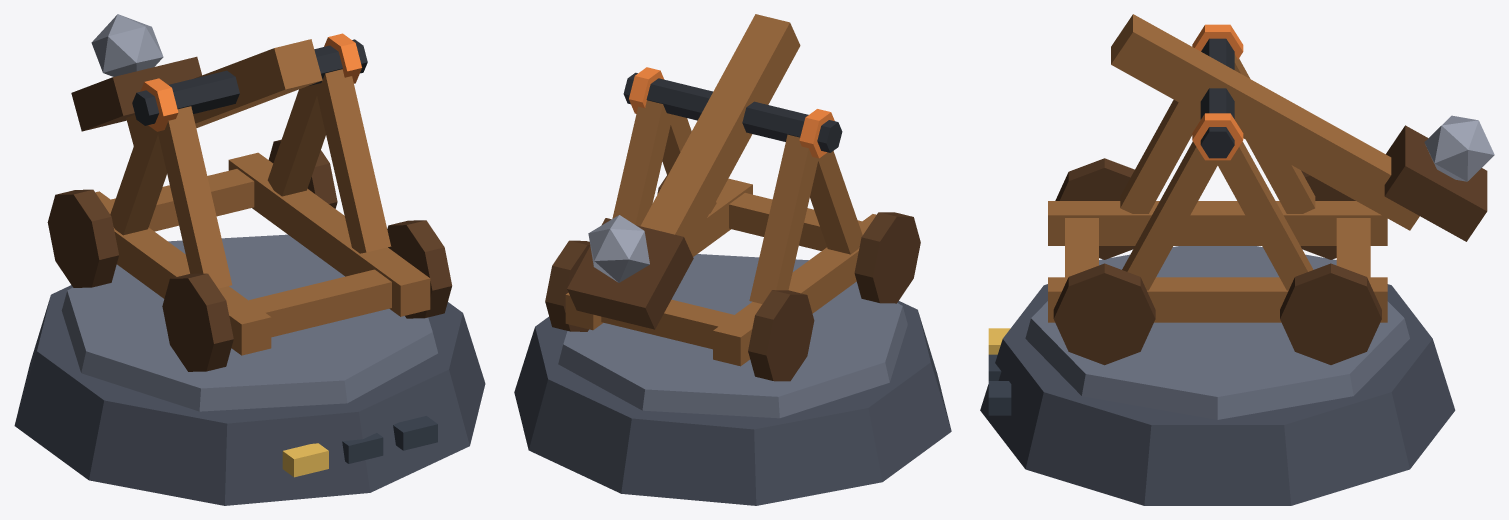
The model's file is catapult-0.glb.
The picture shows the model from 3 angles, left to right: view 1: azimuth 30°, elevation 25°; view 2: azimuth 150°, elevation 25°; view 3: azimuth 270°, elevation 25°; orthographic projection. The views are drawn at different scales.
Parts seen in each view (by area): view 1: catapult-0; view 2: catapult-0; view 3: catapult-0.
Part boxes in pixels (box(x1,y1,x2,y2)): catapult-0: box(14, 14, 485, 505); catapult-0: box(514, 14, 951, 505); catapult-0: box(980, 14, 1494, 505).
Bounding box in the file's own units: 0.7989 × 0.7557 × 0.9097.
1 material, 1 textured.
